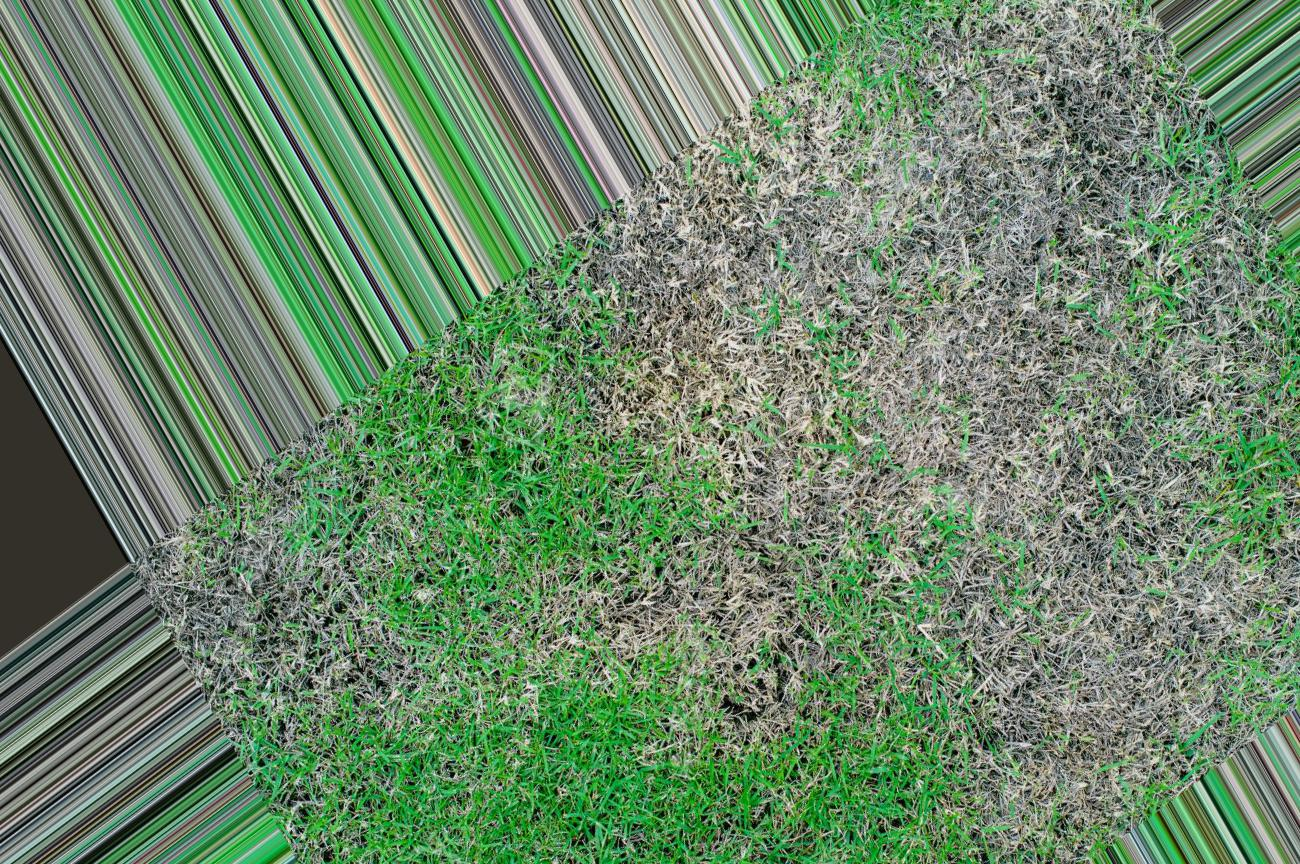patch: (939, 353, 1183, 704), (905, 143, 1078, 319), (739, 207, 915, 304), (1008, 719, 1196, 804), (622, 287, 744, 409), (749, 453, 883, 556), (732, 361, 876, 431)
